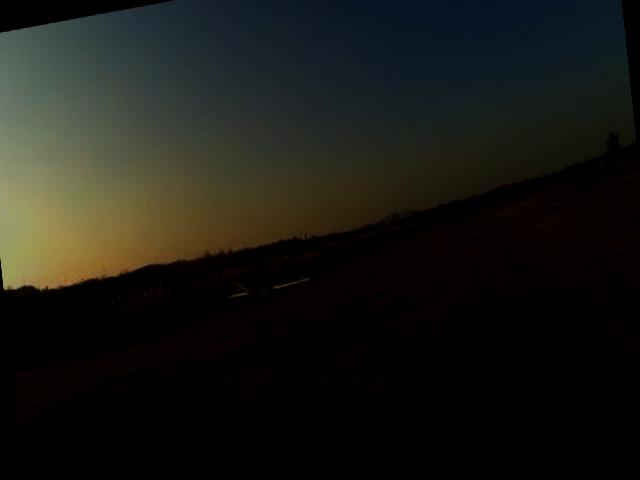uav: (212, 258, 322, 327)
